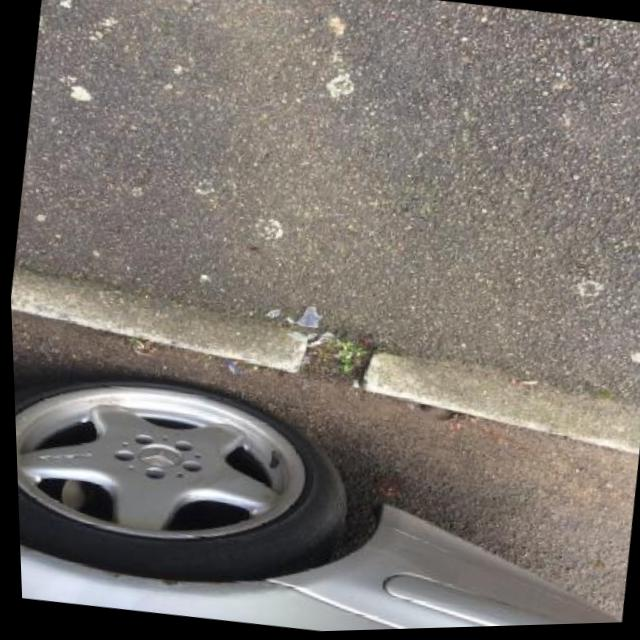plastic: (296, 305, 323, 330)
